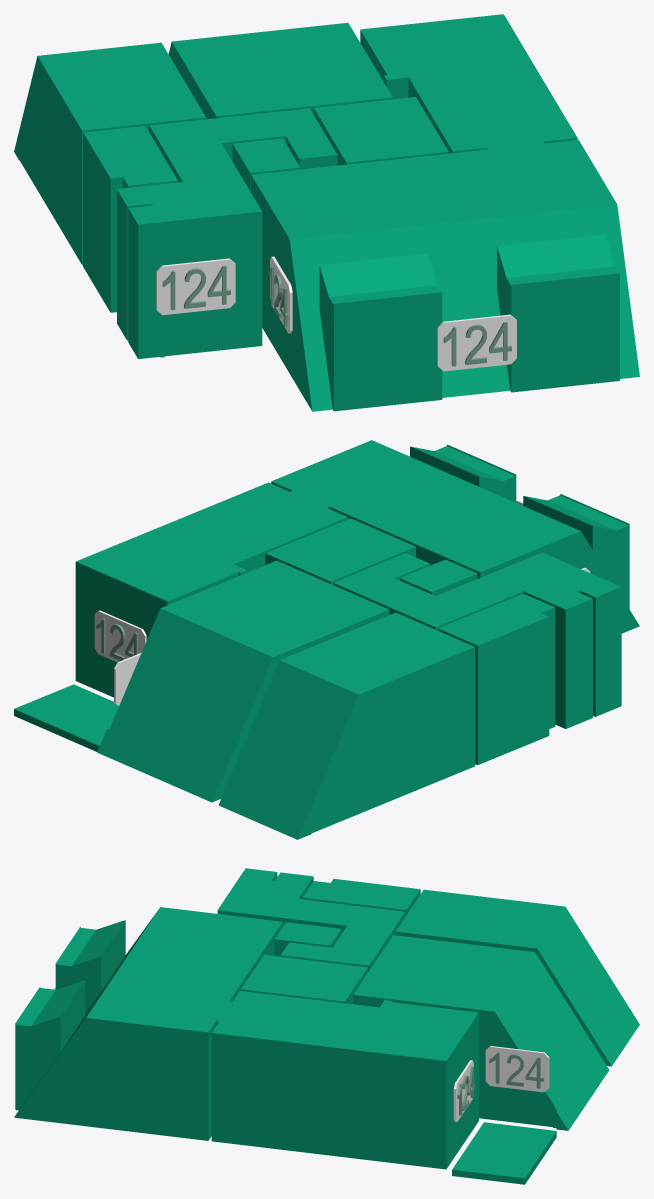
3 renders of one model, top to bottom at view 1: azimuth 30°, elevation 25°; view 2: azimuth 150°, elevation 25°; view 3: azimuth 270°, elevation 25°, orthographic. The views are drawn at different scales.
Visible parts, largest first — view 1: g_6, g_4, g_5, g_2, g_1, g_0, g_3, g_20, g_28, g_7, g_16; view 2: g_2, g_1, g_6, g_5, g_4, g_0, g_3, g_8, g_7, g_24, g_12; view 3: g_6, g_5, g_1, g_2, g_4, g_8, g_3, g_0, g_12, g_7, g_24.
Boxes of the visible parts, left/top/right/bottom form: g_6: left=251, top=140, right=639, bottom=411; g_4: left=117, top=108, right=337, bottom=358; g_5: left=360, top=14, right=577, bottom=153; g_2: left=14, top=42, right=206, bottom=264; g_1: left=168, top=22, right=392, bottom=119; g_0: left=83, top=126, right=177, bottom=312; g_3: left=313, top=97, right=448, bottom=165; g_20: left=437, top=314, right=516, bottom=371; g_28: left=156, top=258, right=235, bottom=315; g_7: left=232, top=138, right=300, bottom=191; g_16: left=270, top=256, right=292, bottom=333; g_2: left=218, top=612, right=475, bottom=839; g_1: left=97, top=560, right=389, bottom=802; g_6: left=271, top=440, right=639, bottom=633; g_5: left=75, top=482, right=348, bottom=697; g_4: left=333, top=552, right=621, bottom=728; g_0: left=438, top=593, right=555, bottom=764; g_3: left=265, top=518, right=415, bottom=584; g_8: left=14, top=684, right=118, bottom=751; g_7: left=400, top=559, right=477, bottom=595; g_24: left=94, top=610, right=146, bottom=662; g_12: left=114, top=652, right=141, bottom=705; g_6: left=14, top=907, right=282, bottom=1140; g_5: left=211, top=990, right=478, bottom=1169; g_1: left=353, top=935, right=609, bottom=1130; g_2: left=395, top=889, right=639, bottom=1066; g_4: left=217, top=868, right=405, bottom=971; g_8: left=452, top=1122, right=556, bottom=1184; g_3: left=241, top=954, right=368, bottom=1004; g_0: left=302, top=878, right=420, bottom=915; g_12: left=485, top=1046, right=549, bottom=1092; g_7: left=274, top=922, right=341, bottom=956; g_24: left=453, top=1060, right=473, bottom=1122.
Size of the model in its own units: 10.12 by 2.71 by 13.31.
